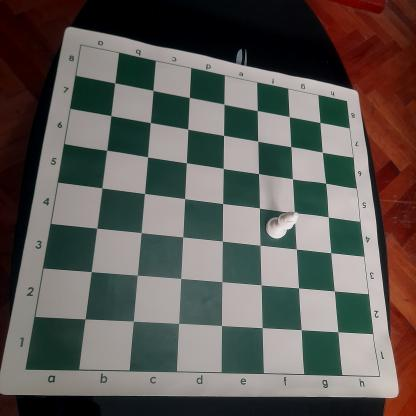white-bishop: (264, 211, 300, 240)
